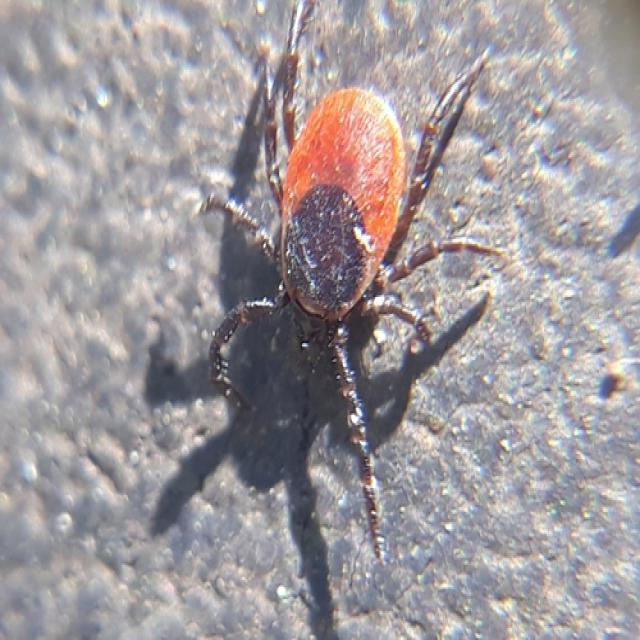Ixodes Ricinus-F: (196, 0, 504, 560)
